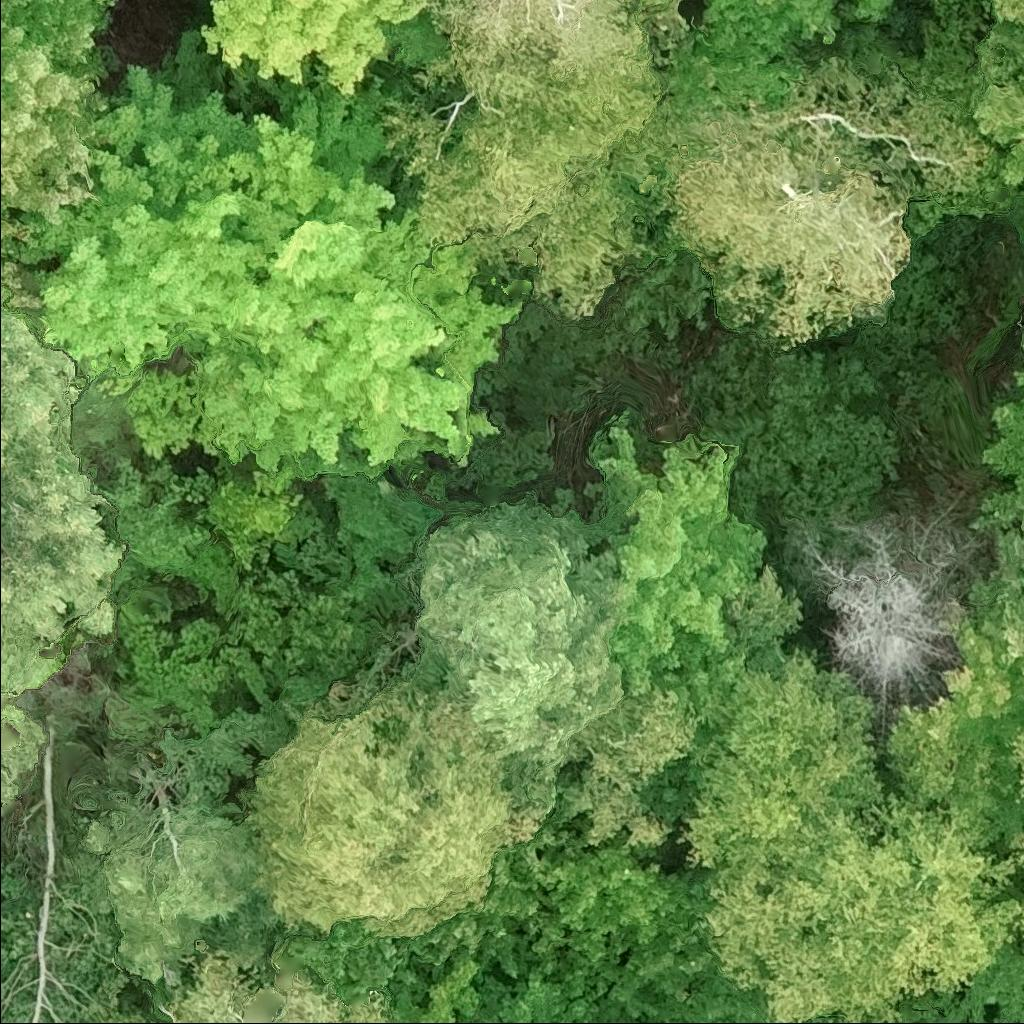crown: (13, 34, 532, 489), (676, 638, 1023, 1023), (657, 55, 994, 352), (237, 680, 554, 941), (397, 489, 631, 807), (0, 285, 128, 800), (378, 92, 659, 321), (417, 0, 693, 204), (582, 408, 767, 709), (812, 490, 990, 748), (76, 796, 282, 1001), (876, 574, 1023, 856), (514, 841, 716, 1023), (545, 681, 704, 858), (0, 0, 121, 221), (195, 0, 432, 112), (960, 0, 1023, 194), (458, 957, 633, 1023), (637, 961, 782, 1023), (150, 938, 245, 1023), (273, 973, 392, 1023), (757, 0, 842, 44), (1007, 721, 1023, 816), (1012, 828, 1023, 881), (1014, 897, 1023, 937), (1019, 225, 1023, 239), (1022, 518, 1023, 529)
